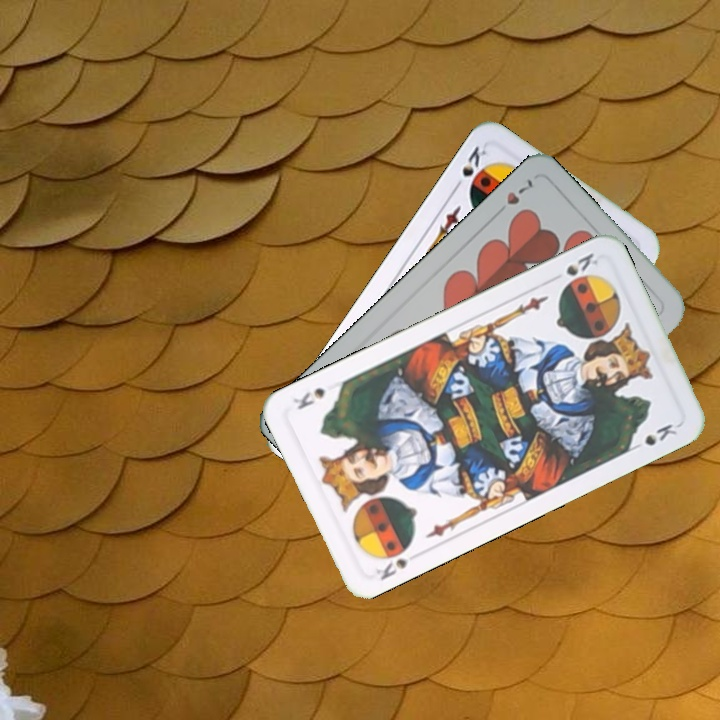H7: (490, 174, 536, 219)
SK: (449, 142, 490, 194), (371, 539, 415, 583), (560, 248, 601, 288)
